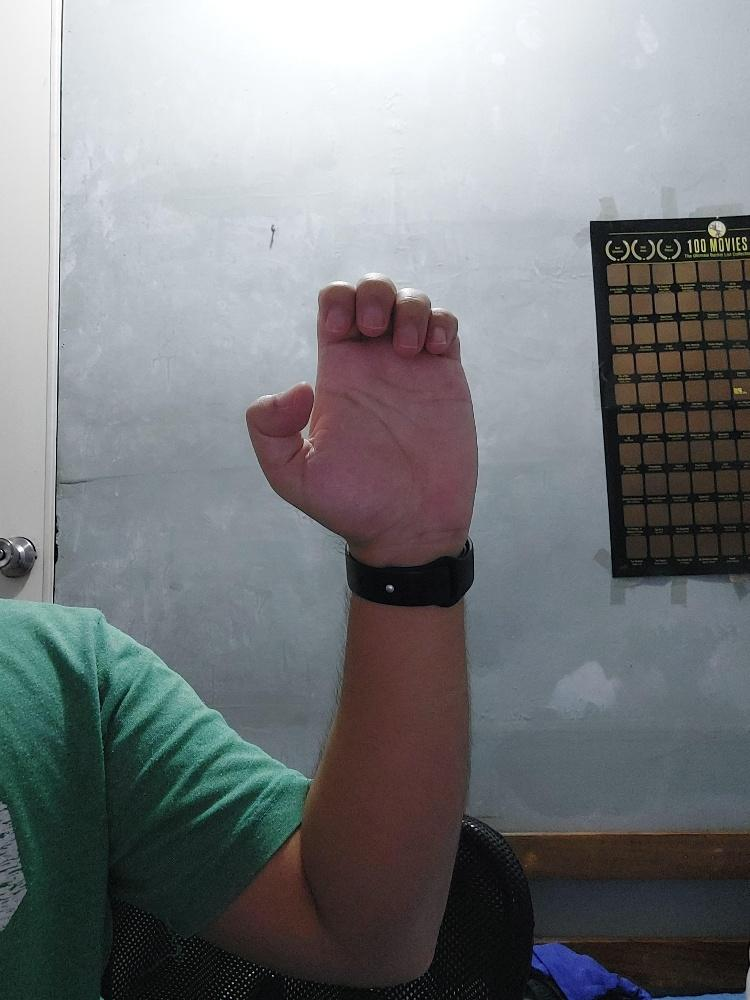e: (243, 275, 481, 532)
